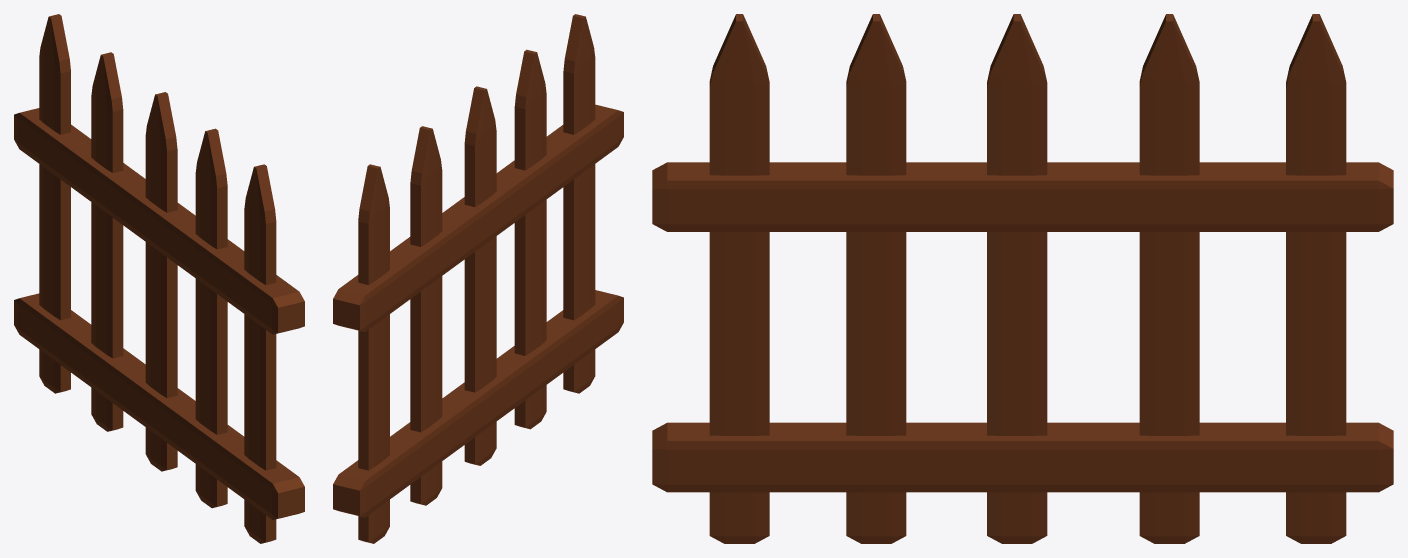
Rendered from valla.fbx.
3 views of the same model, side by side, from view 1: azimuth 30°, elevation 25°; view 2: azimuth 150°, elevation 25°; view 3: azimuth 270°, elevation 25° (orthographic). The views are drawn at different scales.
Visible parts, largest first — view 1: valla; view 2: valla; view 3: valla.
Boxes of the visible parts, x1,y1,x2,y2 form: valla: [14, 14, 304, 543]; valla: [333, 14, 623, 543]; valla: [652, 14, 1393, 543].
Size of the model in its own units: 15.78 by 199 by 256.
